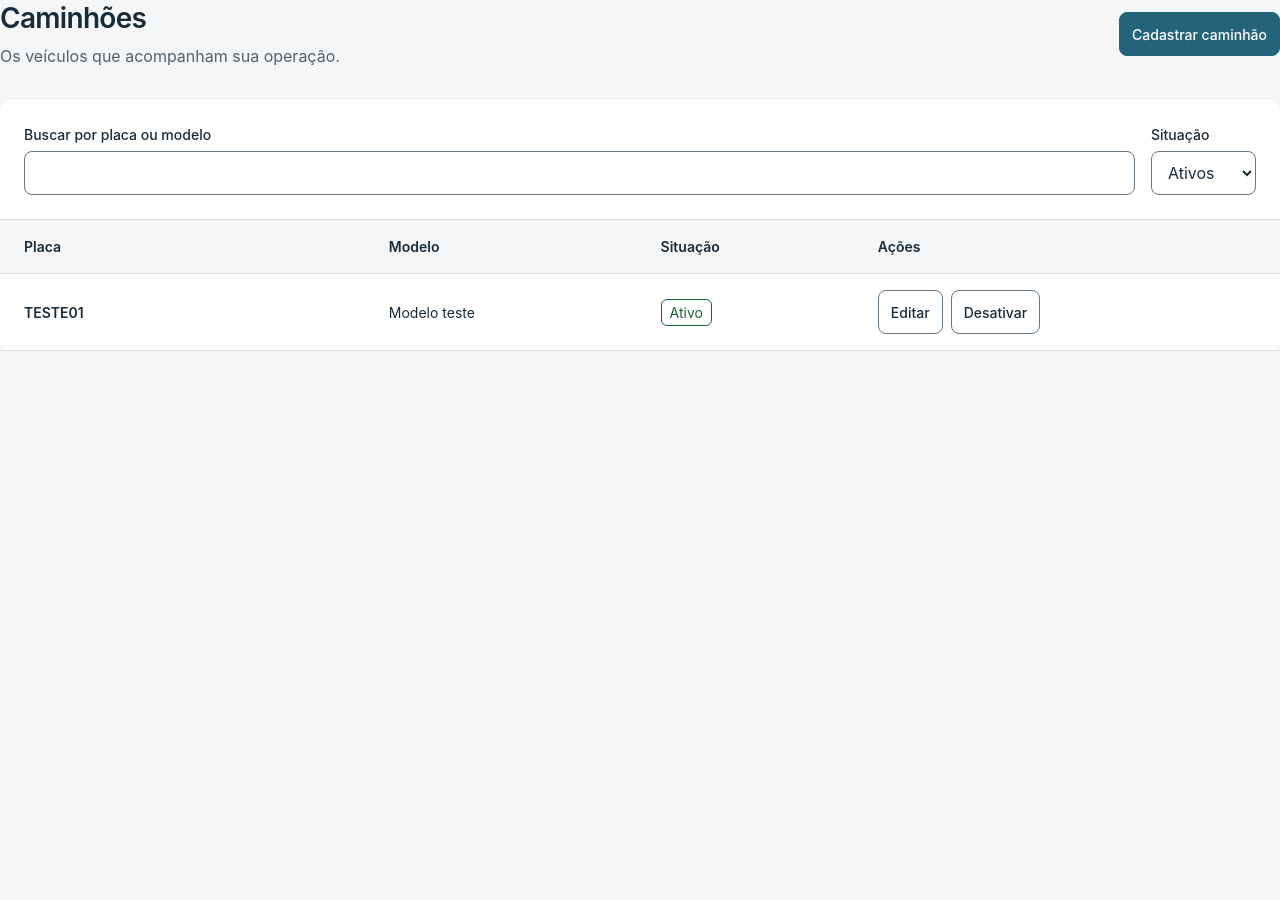
Test: permite cancelar e exige confirmacao para desativar
The image size is (1280, 900).
Click the button with aria-label "Desativar caminhão TESTE01" at (995, 312), box [951, 290, 1040, 334]
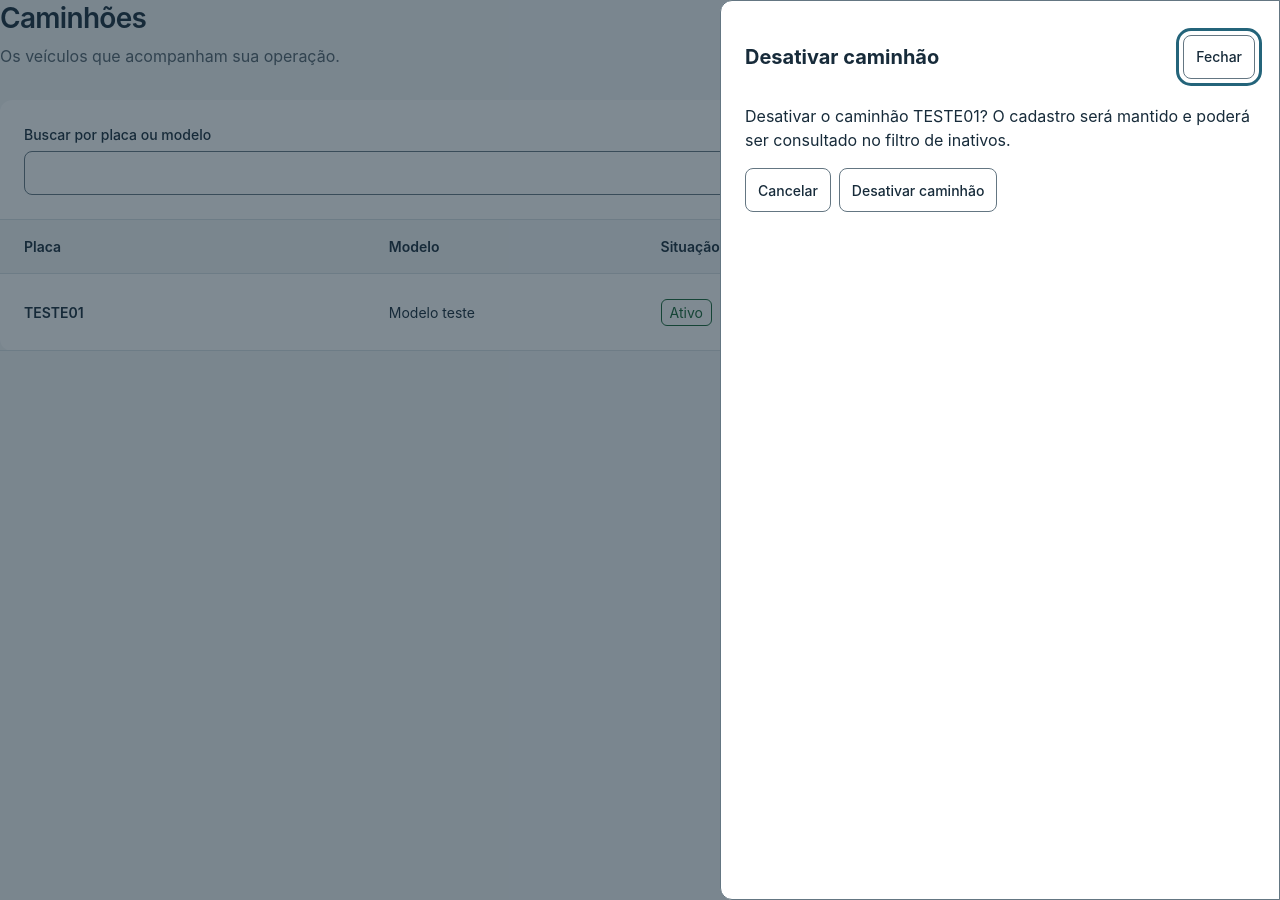
Click the button "Cancelar" at (788, 190), box [745, 168, 831, 212]
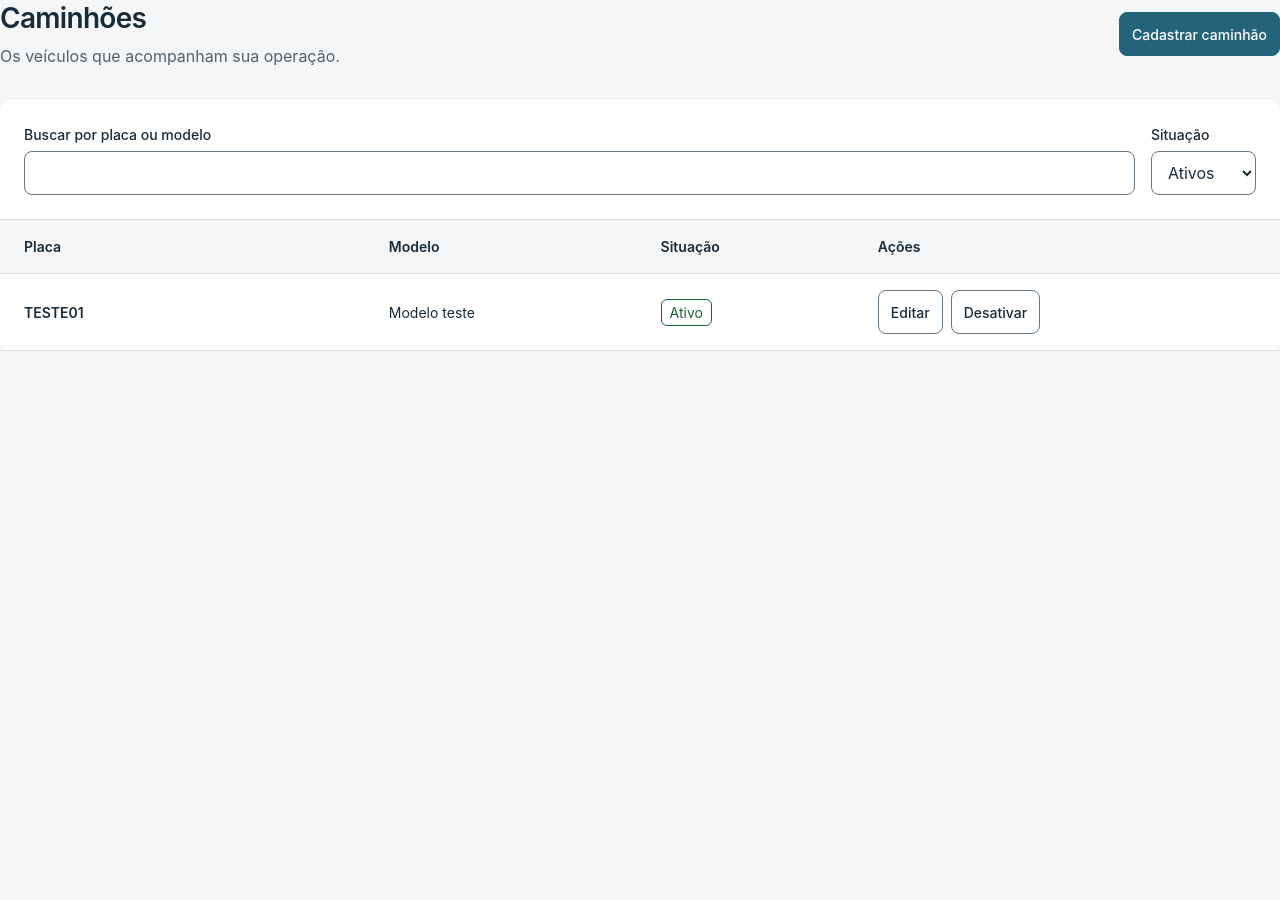
Expected: the dialog is gone
Click the button with aria-label "Desativar caminhão TESTE01" at (995, 312), box [951, 290, 1040, 334]
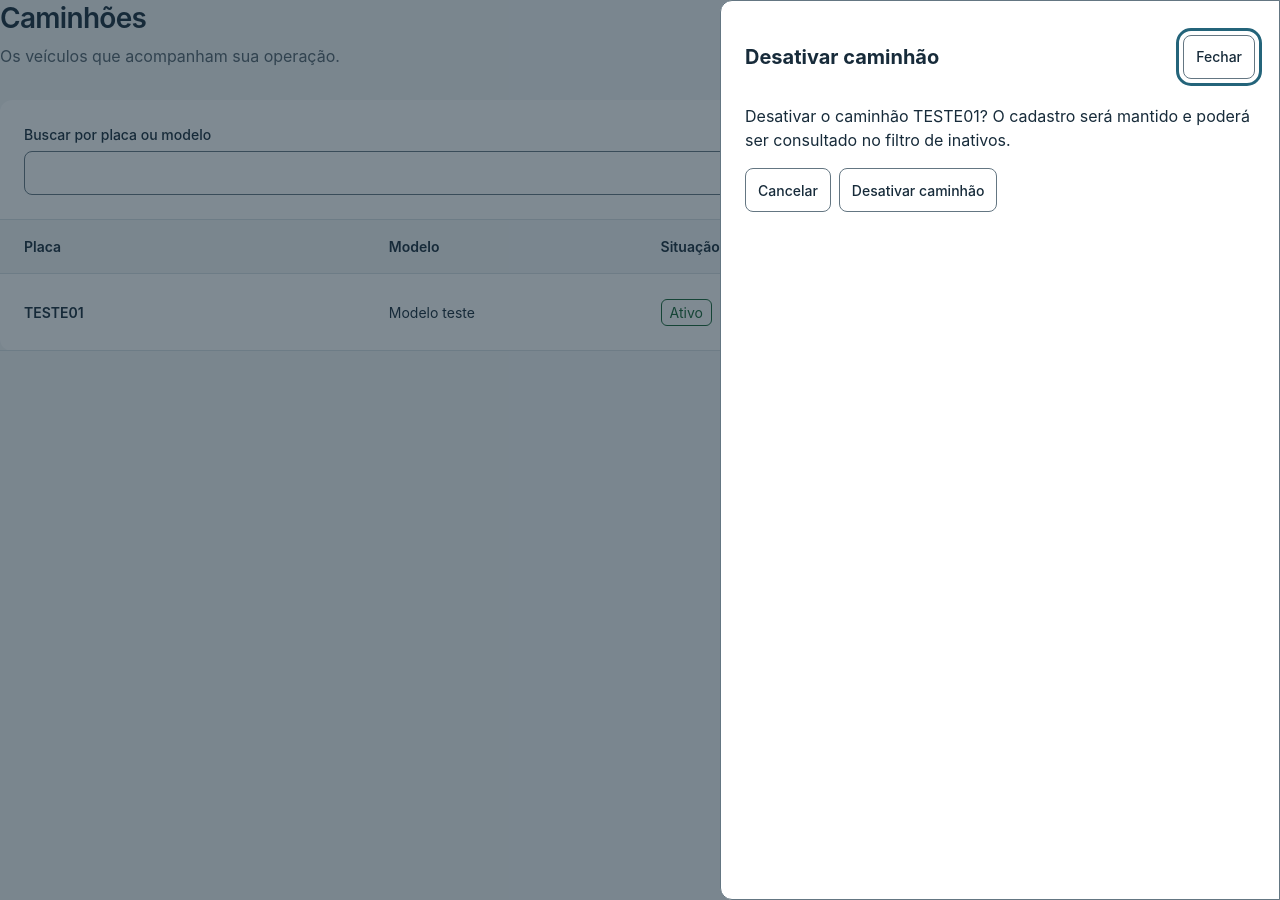
Click the button "Desativar caminhão" at (918, 190), box [839, 168, 997, 212]
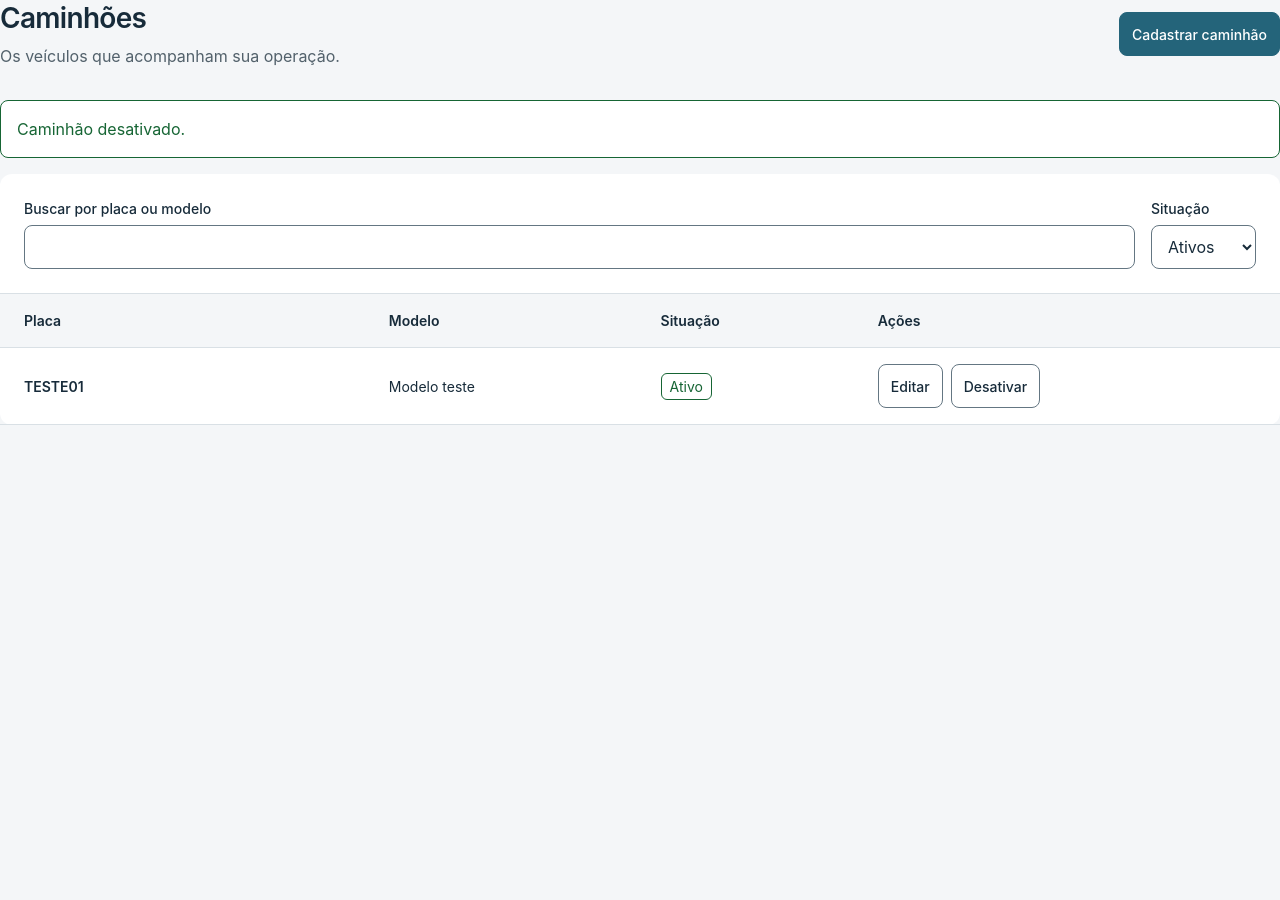
Expected: the text "Caminhão desativado." is shown, [0, 100, 1279, 158]
